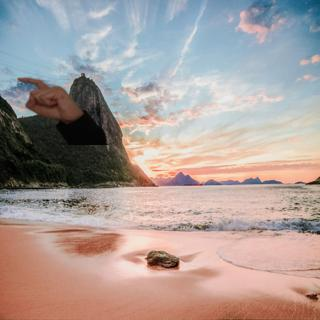WHY: (13, 71, 79, 121)
